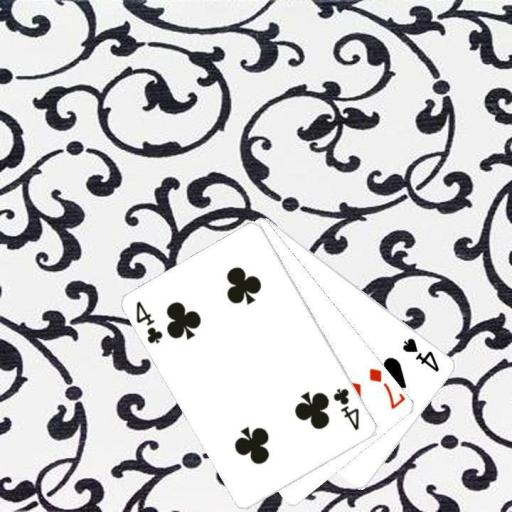card-corner: (366, 365, 406, 411), (400, 334, 442, 374), (133, 297, 165, 346), (330, 385, 361, 432)
